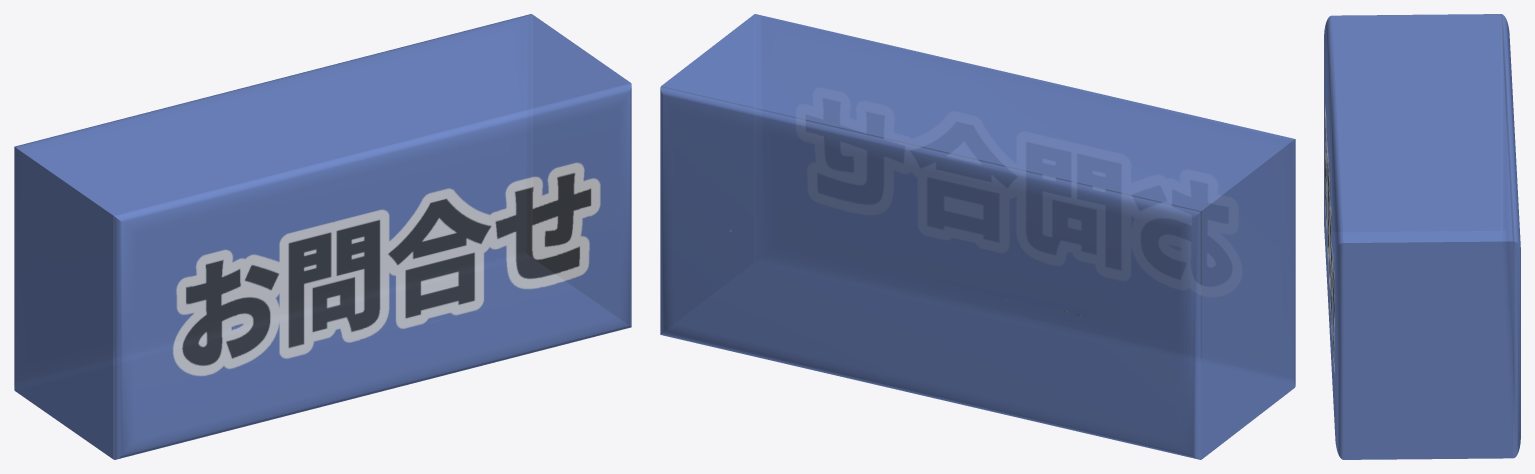
The model's file is wordblock-sample.glb.
The picture shows the model from 3 angles, left to right: view 1: azimuth 30°, elevation 25°; view 2: azimuth 150°, elevation 25°; view 3: azimuth 270°, elevation 25°; orthographic projection. The views are drawn at different scales.
Parts seen in each view (by area): view 1: Mesh_0; view 2: Mesh_0; view 3: Mesh_0.
Part boxes in pixels (x1,y1,x2,y2): Mesh_0: [14, 14, 631, 459]; Mesh_0: [660, 14, 1295, 459]; Mesh_0: [1324, 14, 1520, 459].
Size of the model in its own units: 0.1087 by 0.048 by 0.0395.
1 material, 1 textured.
